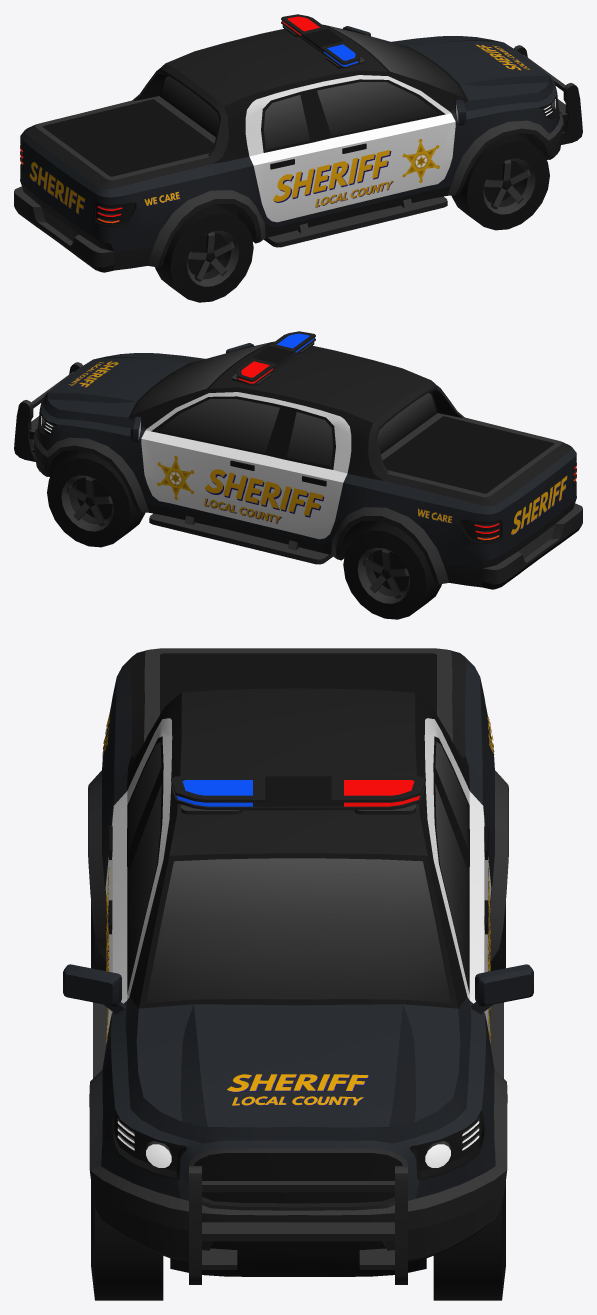
The model's file is Emergency_011.glb.
3 views of the same model, one above another, from view 1: azimuth 30°, elevation 25°; view 2: azimuth 150°, elevation 25°; view 3: azimuth 270°, elevation 25° (orthographic). The views are drawn at different scales.
Visible parts, largest first — view 1: Emergency_011, wheel_3_Emergency_011_Wheel_2R, wheel_1_Emergency_011_Wheel_1R; view 2: Emergency_011, wheel_2_Emergency_011_Wheel_2L, wheel_0_Emergency_011_Wheel_1L; view 3: Emergency_011, wheel_0_Emergency_011_Wheel_1L, wheel_1_Emergency_011_Wheel_1R.
Boxes of the visible parts, x1,y1,x2,y2 form: Emergency_011: (14, 14, 582, 272); wheel_3_Emergency_011_Wheel_2R: (155, 204, 253, 302); wheel_1_Emergency_011_Wheel_1R: (451, 133, 549, 230); Emergency_011: (14, 331, 582, 589); wheel_2_Emergency_011_Wheel_2L: (343, 521, 441, 619); wheel_0_Emergency_011_Wheel_1L: (47, 450, 145, 547); Emergency_011: (63, 648, 533, 1284); wheel_0_Emergency_011_Wheel_1L: (433, 1182, 505, 1300); wheel_1_Emergency_011_Wheel_1R: (91, 1182, 163, 1300).
Size of the model in its own units: 5.5 by 1.96 by 2.23.
Materials: 3 (3 with a texture image).
